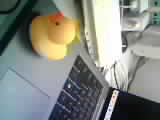duck: (21, 10, 79, 66)
